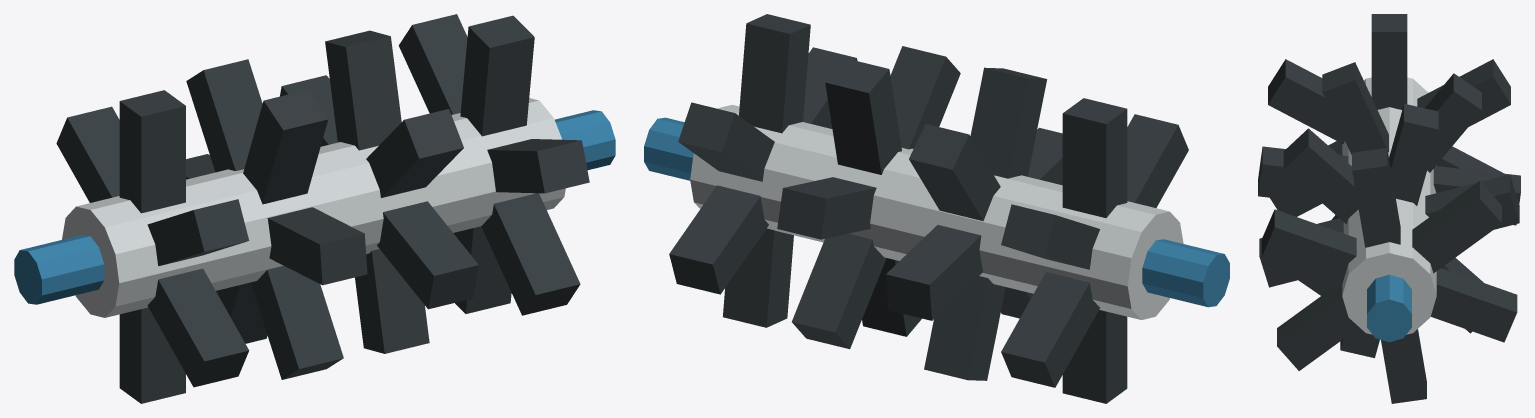
The model's file is CYCLE-016.glb.
3 renders of one model, left to right at view 1: azimuth 30°, elevation 25°; view 2: azimuth 150°, elevation 25°; view 3: azimuth 270°, elevation 25°, orthographic. The views are drawn at different scales.
Visible parts, largest first — view 1: CYCLE-016; view 2: CYCLE-016; view 3: CYCLE-016.
Part boxes in pixels (x1,y1,x2,y2): CYCLE-016: [14, 14, 615, 403]; CYCLE-016: [644, 14, 1229, 403]; CYCLE-016: [1258, 14, 1520, 403].
Size of the model in its own units: 2.3 by 1.11 by 1.11.
